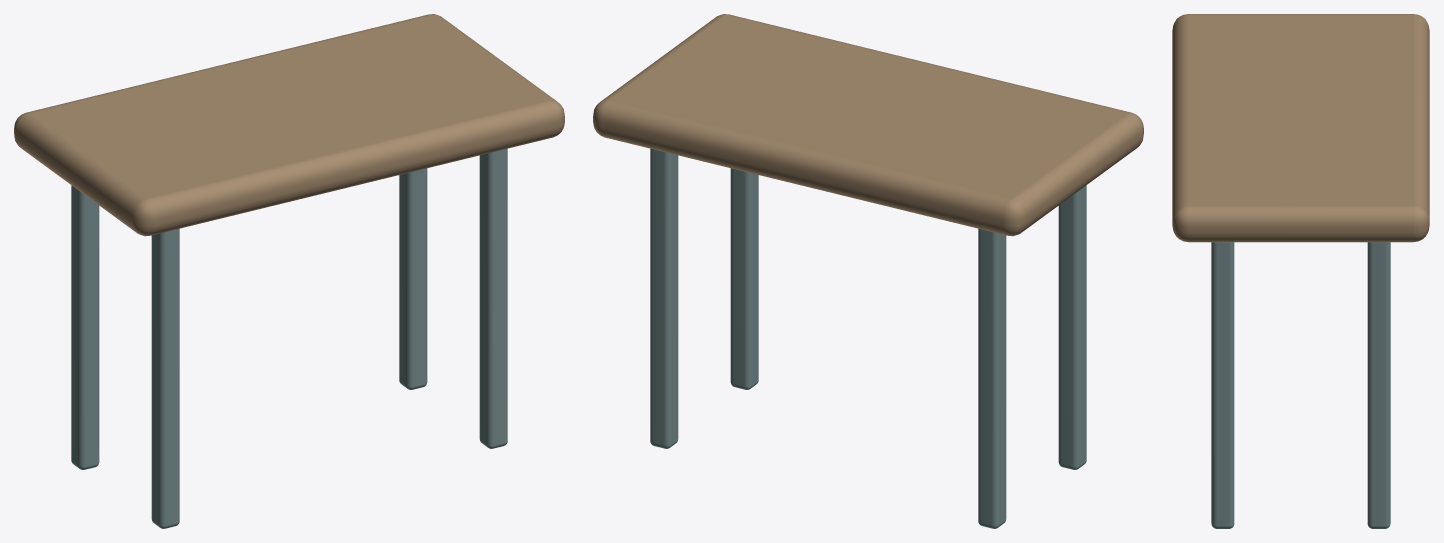
Rendered from study_desk.glb.
3 views of the same model, side by side, from view 1: azimuth 30°, elevation 25°; view 2: azimuth 150°, elevation 25°; view 3: azimuth 270°, elevation 25° (orthographic). The views are drawn at different scales.
Parts seen in each view (by area): view 1: DeskTop, DeskLeg; view 2: DeskTop, DeskLeg; view 3: DeskTop, DeskLeg.
Part boxes in pixels (x1=…): DeskTop: x1=14, y1=14, x2=564, y2=236; DeskLeg: x1=71, y1=148, x2=507, y2=528; DeskTop: x1=593, y1=14, x2=1143, y2=236; DeskLeg: x1=650, y1=148, x2=1086, y2=528; DeskTop: x1=1172, y1=14, x2=1429, y2=242; DeskLeg: x1=1211, y1=242, x2=1390, y2=528.
Size of the model in its own units: 1.05 by 0.8125 by 0.56.
